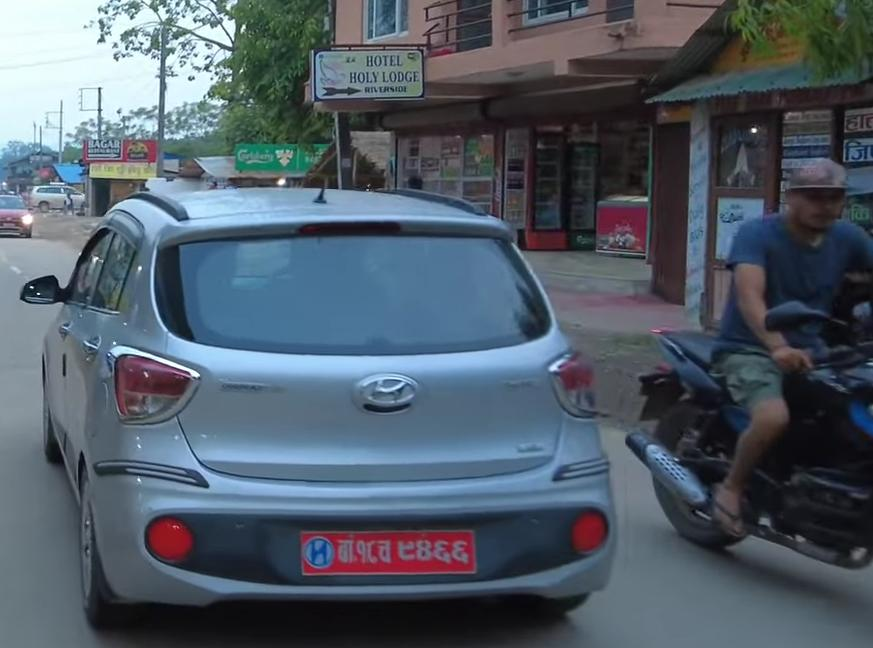bike: (632, 292, 873, 581)
car: (20, 183, 622, 648), (0, 192, 33, 240)
